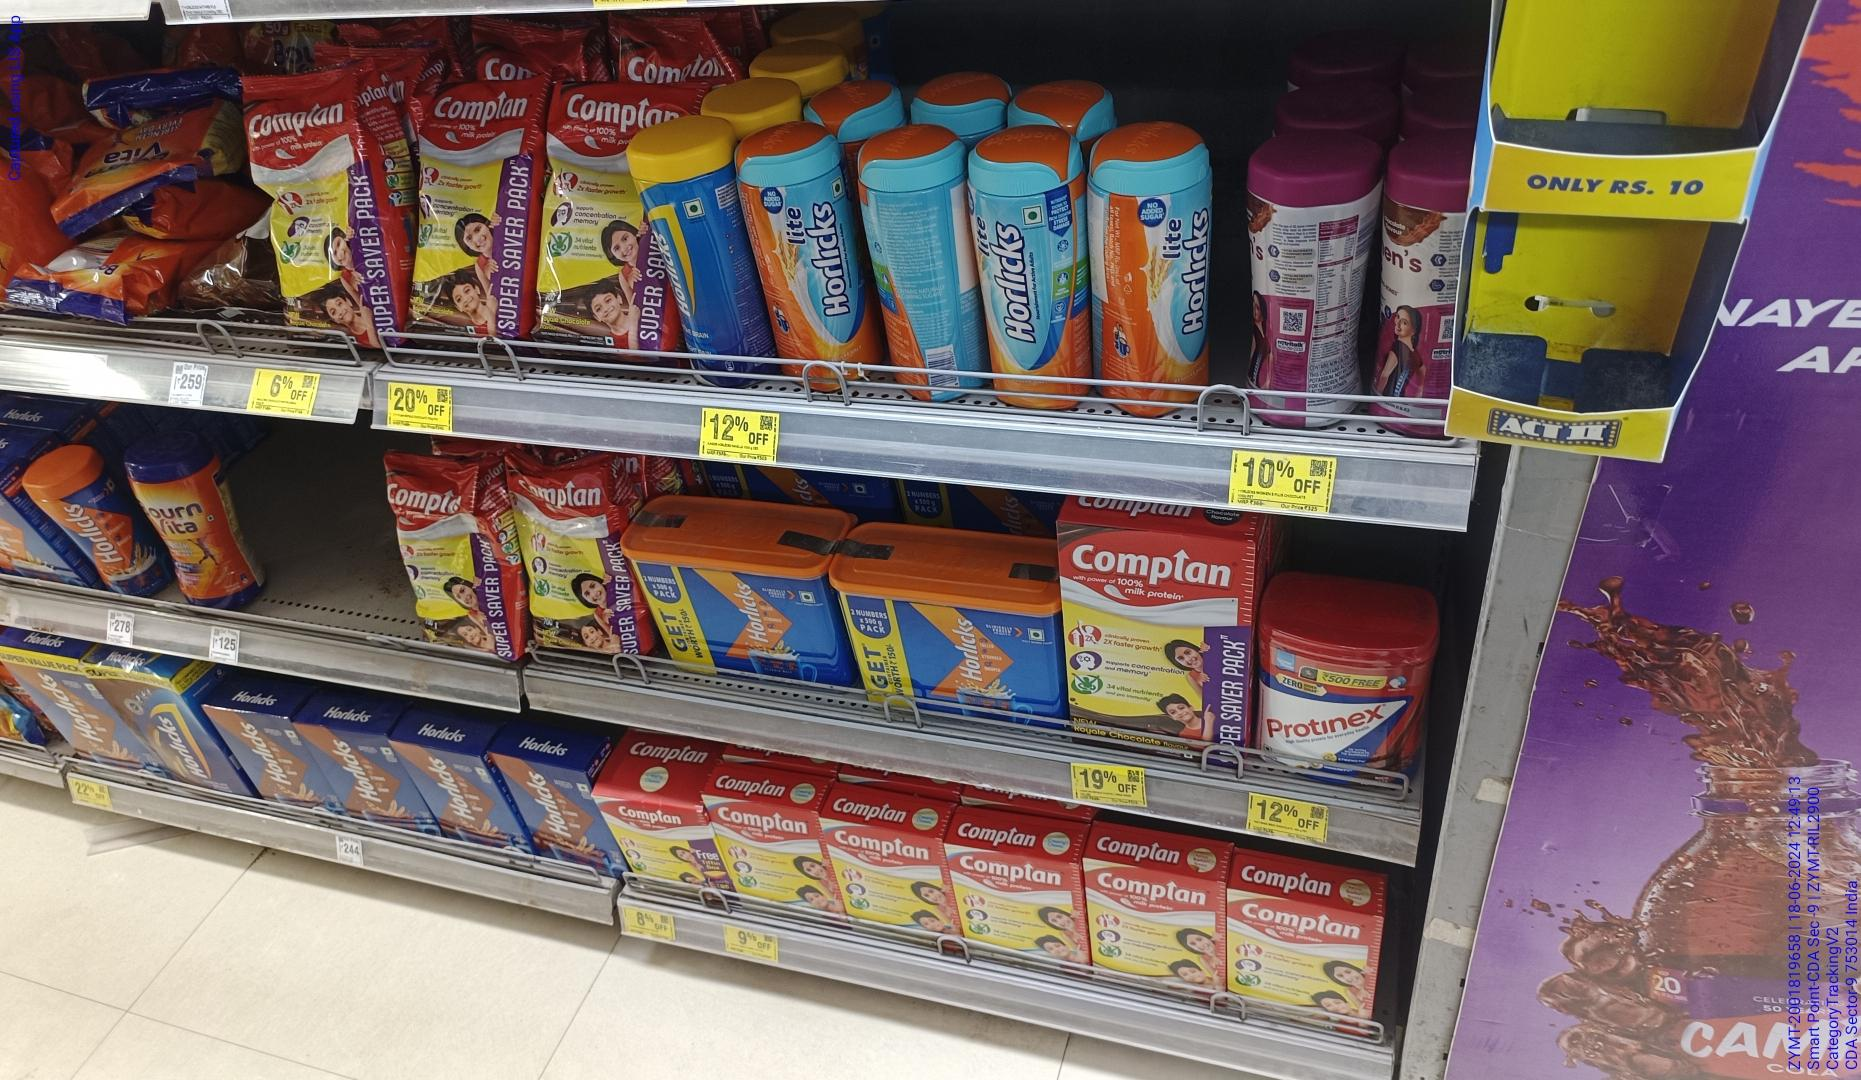COMPLAN_CHOCOLATE_1_KG_PACK: (1067, 518, 1253, 764)
COMPLAN_RC_POUCH_700_GMS_12: (258, 84, 387, 342), (414, 77, 533, 336), (388, 459, 508, 662), (515, 467, 634, 658)
HORLICKS_LITE_REGULAR_MALT_500_GM_JAR: (972, 125, 1086, 411), (1103, 120, 1209, 409), (754, 125, 862, 392)
HORLICK_MALT_1_KG_CONTAINER: (837, 518, 1063, 719), (643, 492, 833, 678)
PROTINEX_VANILLA_400_G_JAR: (1260, 635, 1427, 788)
